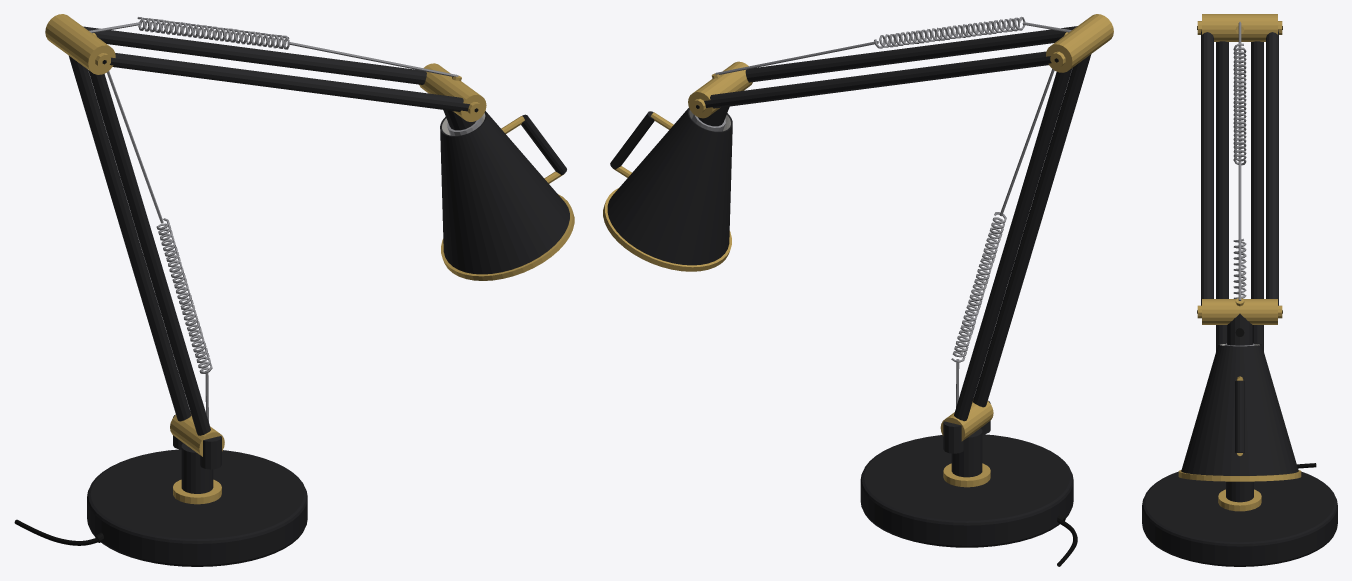
File: lampe-de-bureau-articulee.glb
3 renders of one model, left to right at view 1: azimuth 30°, elevation 25°; view 2: azimuth 150°, elevation 25°; view 3: azimuth 270°, elevation 25°, orthographic. The views are drawn at different scales.
Visible parts, largest first — view 1: lampe-de-bureau-articulee; view 2: lampe-de-bureau-articulee; view 3: lampe-de-bureau-articulee.
Boxes of the visible parts, x1,y1,x2,y2 form: lampe-de-bureau-articulee: [14, 14, 574, 566]; lampe-de-bureau-articulee: [603, 14, 1113, 566]; lampe-de-bureau-articulee: [1142, 14, 1337, 566].
Bounding box in the file's own units: 0.4793 × 0.468 × 0.18.
